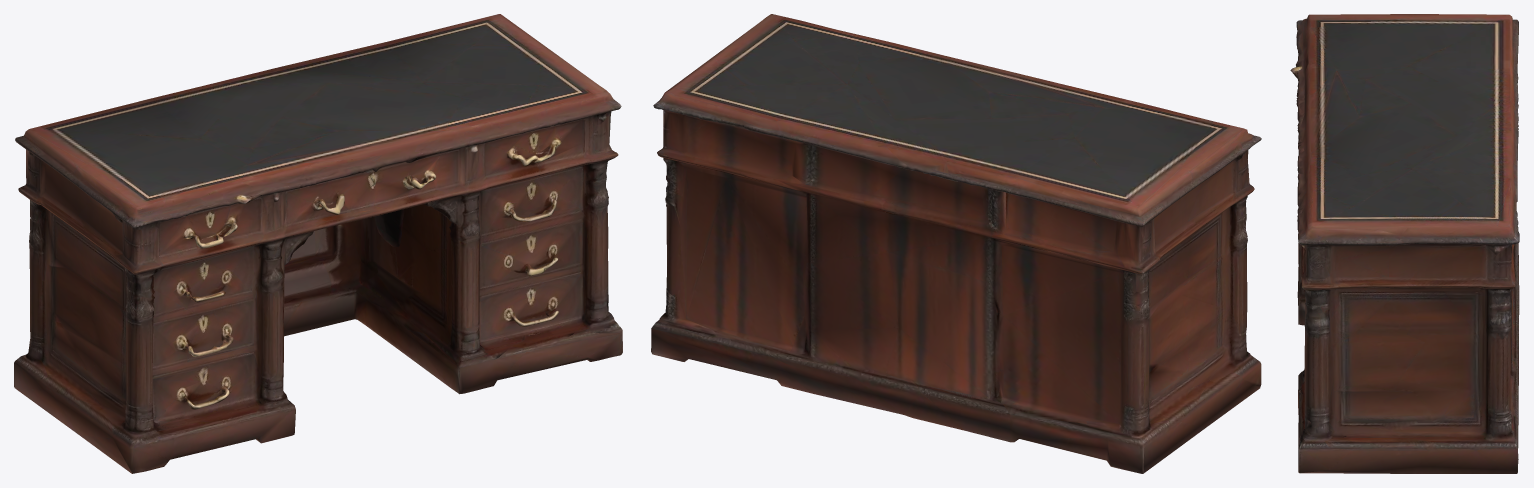
Rendered from Meshy_AI_Antique_Mahogany_Leat_0703054738_texture.glb.
3 views of the same model, side by side, from view 1: azimuth 30°, elevation 25°; view 2: azimuth 150°, elevation 25°; view 3: azimuth 270°, elevation 25° (orthographic). The views are drawn at different scales.
Size of the model in its own units: 2 by 1.02 by 0.8678.
1 material, 1 textured.
